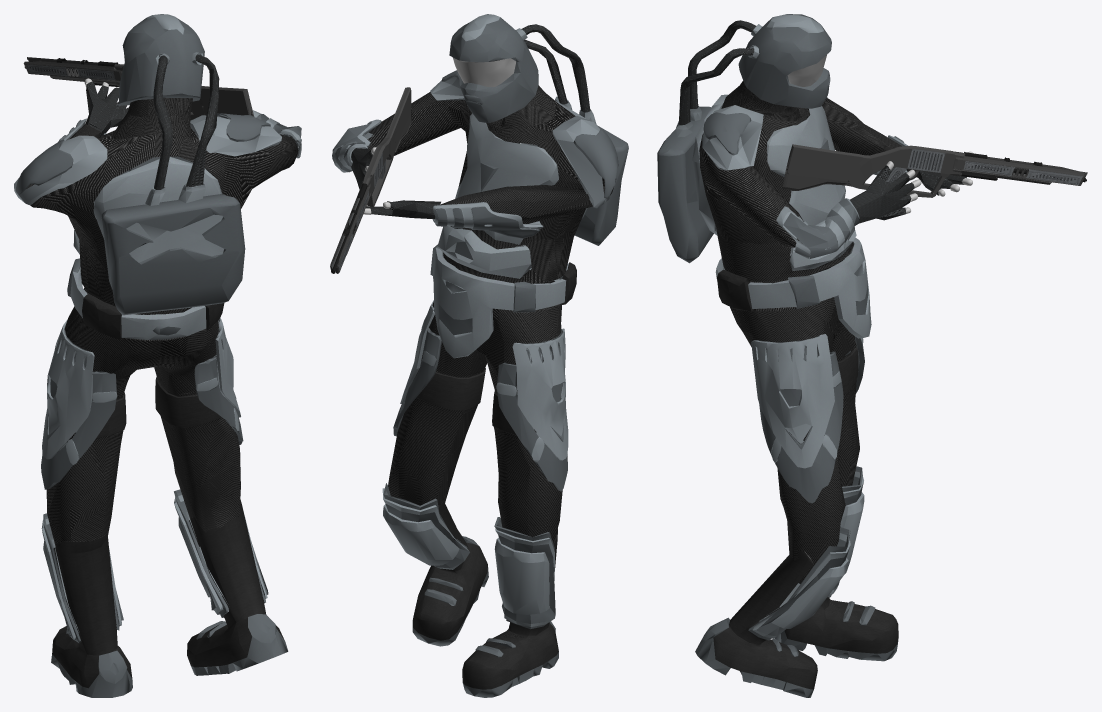
Rendered from AndarEscopeta.0022.obj.
3 views of the same model, side by side, from view 1: azimuth 30°, elevation 25°; view 2: azimuth 150°, elevation 25°; view 3: azimuth 270°, elevation 25° (orthographic). The views are drawn at different scales.
Visible parts, largest first — view 1: personaje:extrudedSurface2 polySurface182, personaje:PANTALON polySurface182, personaje:bota1 polySurface182, personaje:CAMISETABUENA polySurface182, personaje:pPipe4 polySurface182, personaje:pCube4 polySurface182, personaje:cosoarmdaurapierna1 polySurface182, personaje:cinturon polySurface182, escopeta:Cylinder001 polySurface182, personaje:polySurface6 polySurface182, personaje:armadbota1 polySurface182, personaje:HOMBRO2 polySurface182 (+4 smaller); view 2: personaje:PANTALON polySurface182, personaje:CAMISETABUENA polySurface182, personaje:pPipe4 polySurface182, personaje:bota1 polySurface182, personaje:extrudedSurface2 polySurface182, personaje:cinturon polySurface182, personaje:armadbota1 polySurface182, personaje:pCube4 polySurface182, personaje:cosoarmdaurapierna1 polySurface182, escopeta:Cylinder001 polySurface182, personaje:polySurface6 polySurface182, personaje:HOMBRO2 polySurface182 (+7 smaller); view 3: personaje:CAMISETABUENA polySurface182, personaje:bota1 polySurface182, personaje:extrudedSurface2 polySurface182, personaje:pPipe4 polySurface182, personaje:pCube4 polySurface182, personaje:PANTALON polySurface182, escopeta:Cylinder001 polySurface182, personaje:cinturon polySurface182, personaje:cosoarmadurapierna2 polySurface182, personaje:armadbota1 polySurface182, personaje:hombro1 polySurface182, personaje:partearmdBRAZO2 polySurface182 (+1 smaller).
Boxes of the visible parts, x1,y1,x2,y2 form: personaje:extrudedSurface2 polySurface182: [101, 14, 245, 315]; personaje:PANTALON polySurface182: [46, 287, 240, 546]; personaje:bota1 polySurface182: [51, 499, 288, 697]; personaje:CAMISETABUENA polySurface182: [26, 97, 298, 340]; personaje:pPipe4 polySurface182: [14, 81, 301, 254]; personaje:pCube4 polySurface182: [41, 318, 268, 643]; personaje:cosoarmdaurapierna1 polySurface182: [42, 320, 117, 464]; personaje:cinturon polySurface182: [67, 258, 224, 339]; escopeta:Cylinder001 polySurface182: [23, 57, 254, 118]; personaje:polySurface6 polySurface182: [96, 377, 221, 438]; personaje:armadbota1 polySurface182: [41, 495, 267, 639]; personaje:HOMBRO2 polySurface182: [16, 139, 73, 194]; personaje:PANTALON polySurface182: [388, 267, 562, 543]; personaje:CAMISETABUENA polySurface182: [348, 60, 615, 312]; personaje:pPipe4 polySurface182: [332, 76, 610, 278]; personaje:bota1 polySurface182: [412, 501, 558, 697]; personaje:extrudedSurface2 polySurface182: [449, 14, 628, 245]; personaje:cinturon polySurface182: [430, 240, 576, 358]; personaje:armadbota1 polySurface182: [382, 488, 554, 626]; personaje:pCube4 polySurface182: [383, 300, 567, 629]; personaje:cosoarmdaurapierna1 polySurface182: [496, 328, 568, 462]; escopeta:Cylinder001 polySurface182: [330, 87, 412, 273]; personaje:polySurface6 polySurface182: [416, 368, 516, 435]; personaje:HOMBRO2 polySurface182: [573, 129, 618, 198]; personaje:CAMISETABUENA polySurface182: [699, 81, 901, 311]; personaje:bota1 polySurface182: [695, 550, 898, 697]; personaje:extrudedSurface2 polySurface182: [657, 14, 831, 263]; personaje:pPipe4 polySurface182: [692, 94, 966, 270]; personaje:pCube4 polySurface182: [748, 334, 864, 640]; personaje:PANTALON polySurface182: [730, 257, 859, 583]; escopeta:Cylinder001 polySurface182: [782, 144, 1087, 197]; personaje:cinturon polySurface182: [715, 237, 871, 338]; personaje:cosoarmadurapierna2 polySurface182: [759, 346, 843, 503]; personaje:armadbota1 polySurface182: [752, 471, 864, 638]; personaje:hombro1 polySurface182: [703, 112, 751, 155]; personaje:partearmdBRAZO2 polySurface182: [776, 198, 859, 259].
Bounding box in the file's own units: 4.25 × 9.61 × 5.7.
